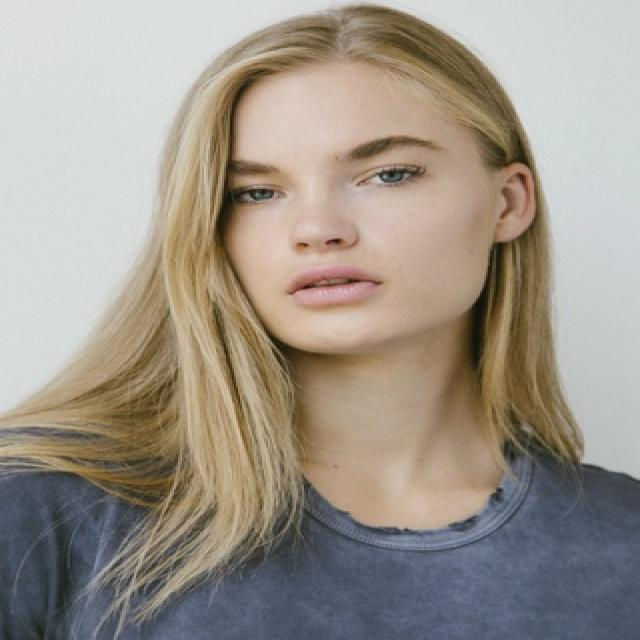earlobe: (496, 161, 537, 242)
